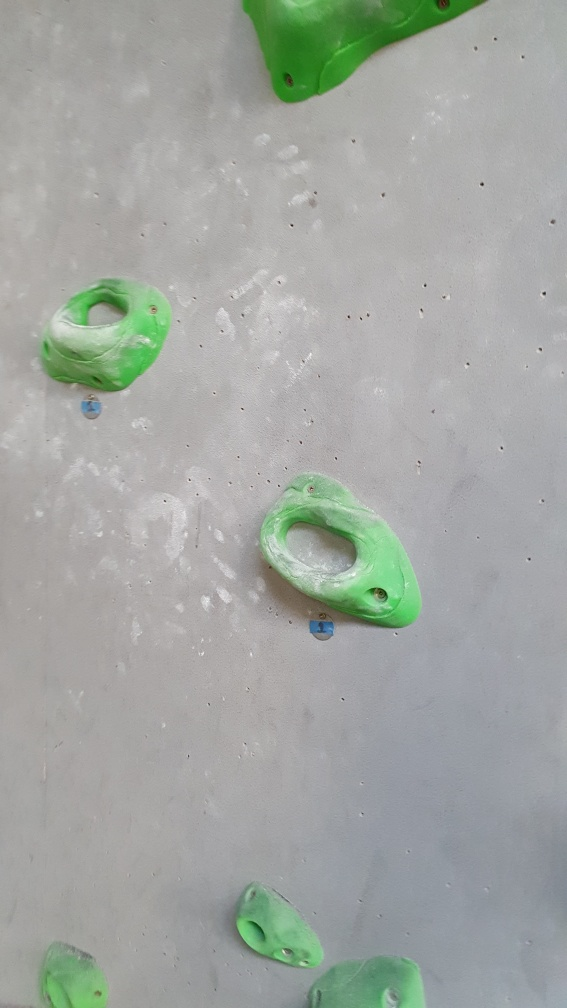Hand Start: (304, 610, 337, 642), (78, 392, 106, 422)
Pocket: (254, 471, 426, 633), (36, 276, 172, 397)
